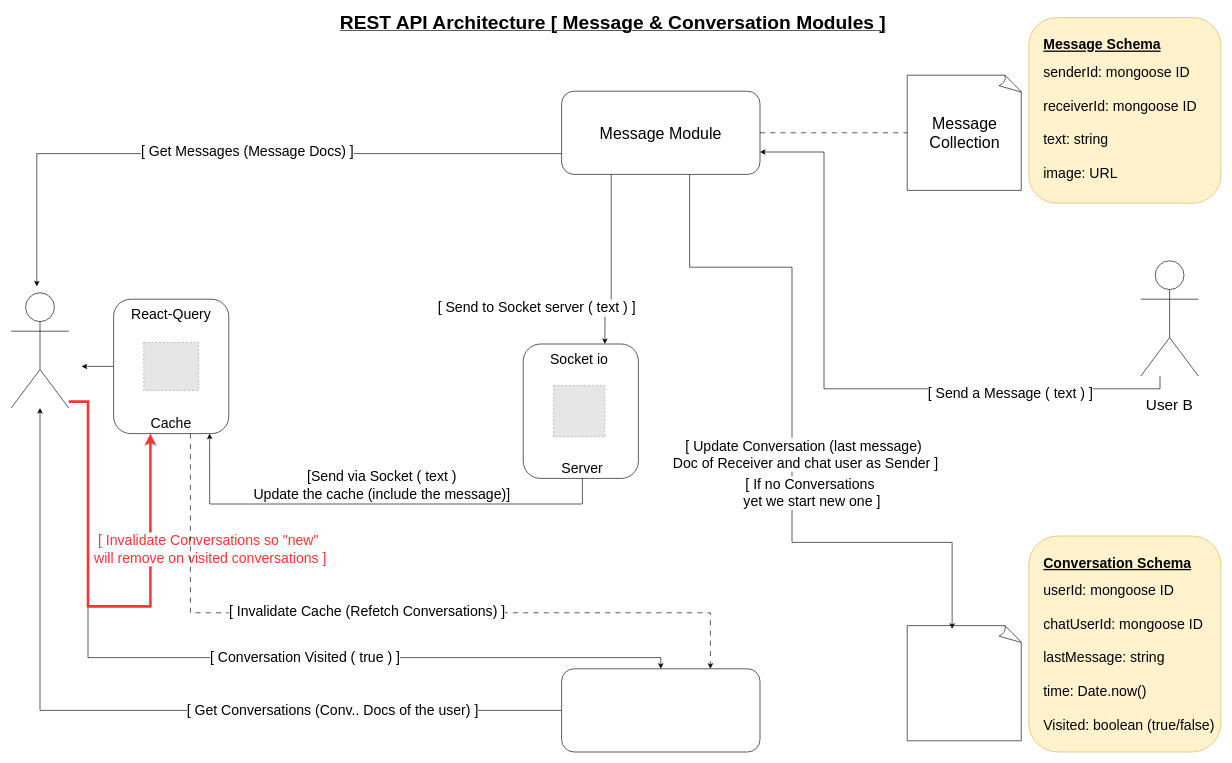
Image size: 1232x763. Some labels were removed from this diagram. Grey dashed boxes stand in for pictures. Here are the shapes that lost their labels. From the top down, the centre of each, then its label:
At point 964,683: "Conversation Collection".
At point 660,710: "Conversations Modules".
